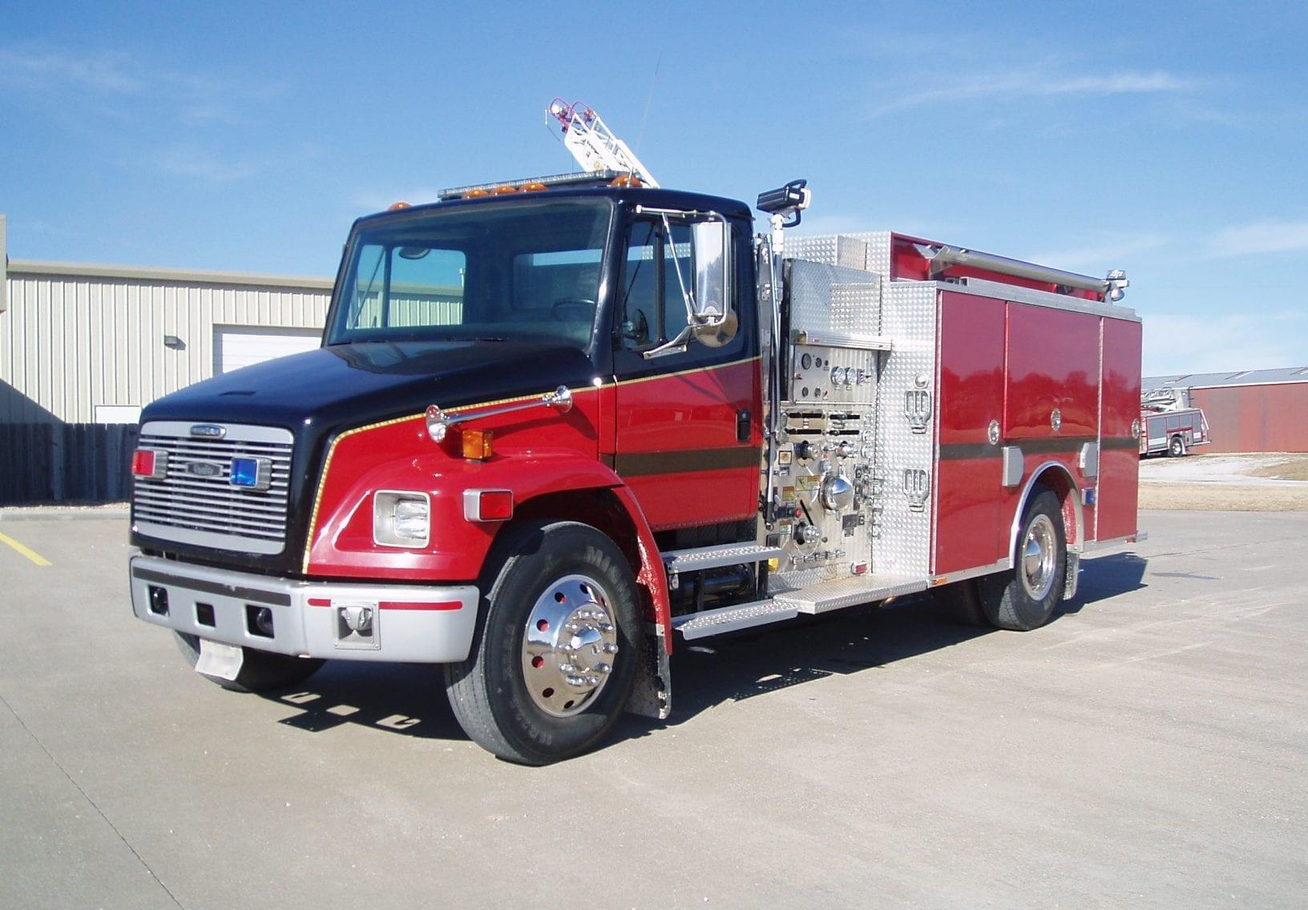Fire-engine: (127, 95, 1145, 766), (1140, 386, 1211, 457)
